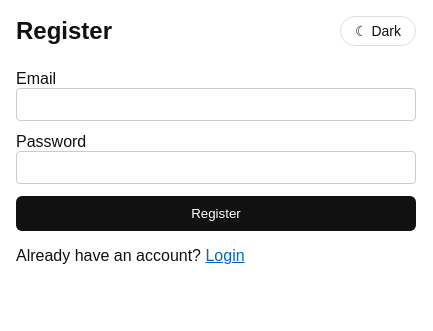
Test case: Register page › shows a fallback error when no server detail is returned
This screenshot has width=433, height=331.
Type "user@example.com" into the field labelled "Email".
click(216, 104); type("user@example.com")  # box [16, 88, 416, 121]
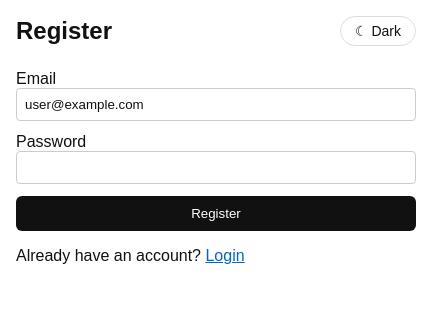
Type "pass" into the password field labelled "Password".
click(216, 168); type("pass")  # box [16, 151, 416, 184]
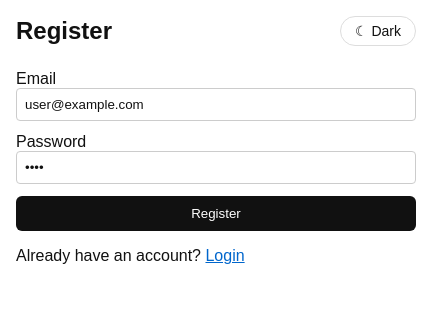
Click the button "Register".
click(216, 214)  # box [16, 196, 416, 231]
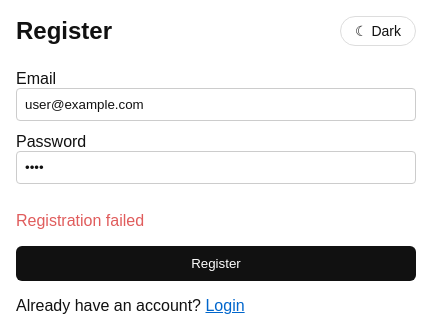
Now the text "Registration failed" is shown, box [16, 212, 144, 229]
